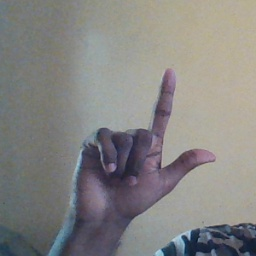L: (68, 67, 219, 222)
